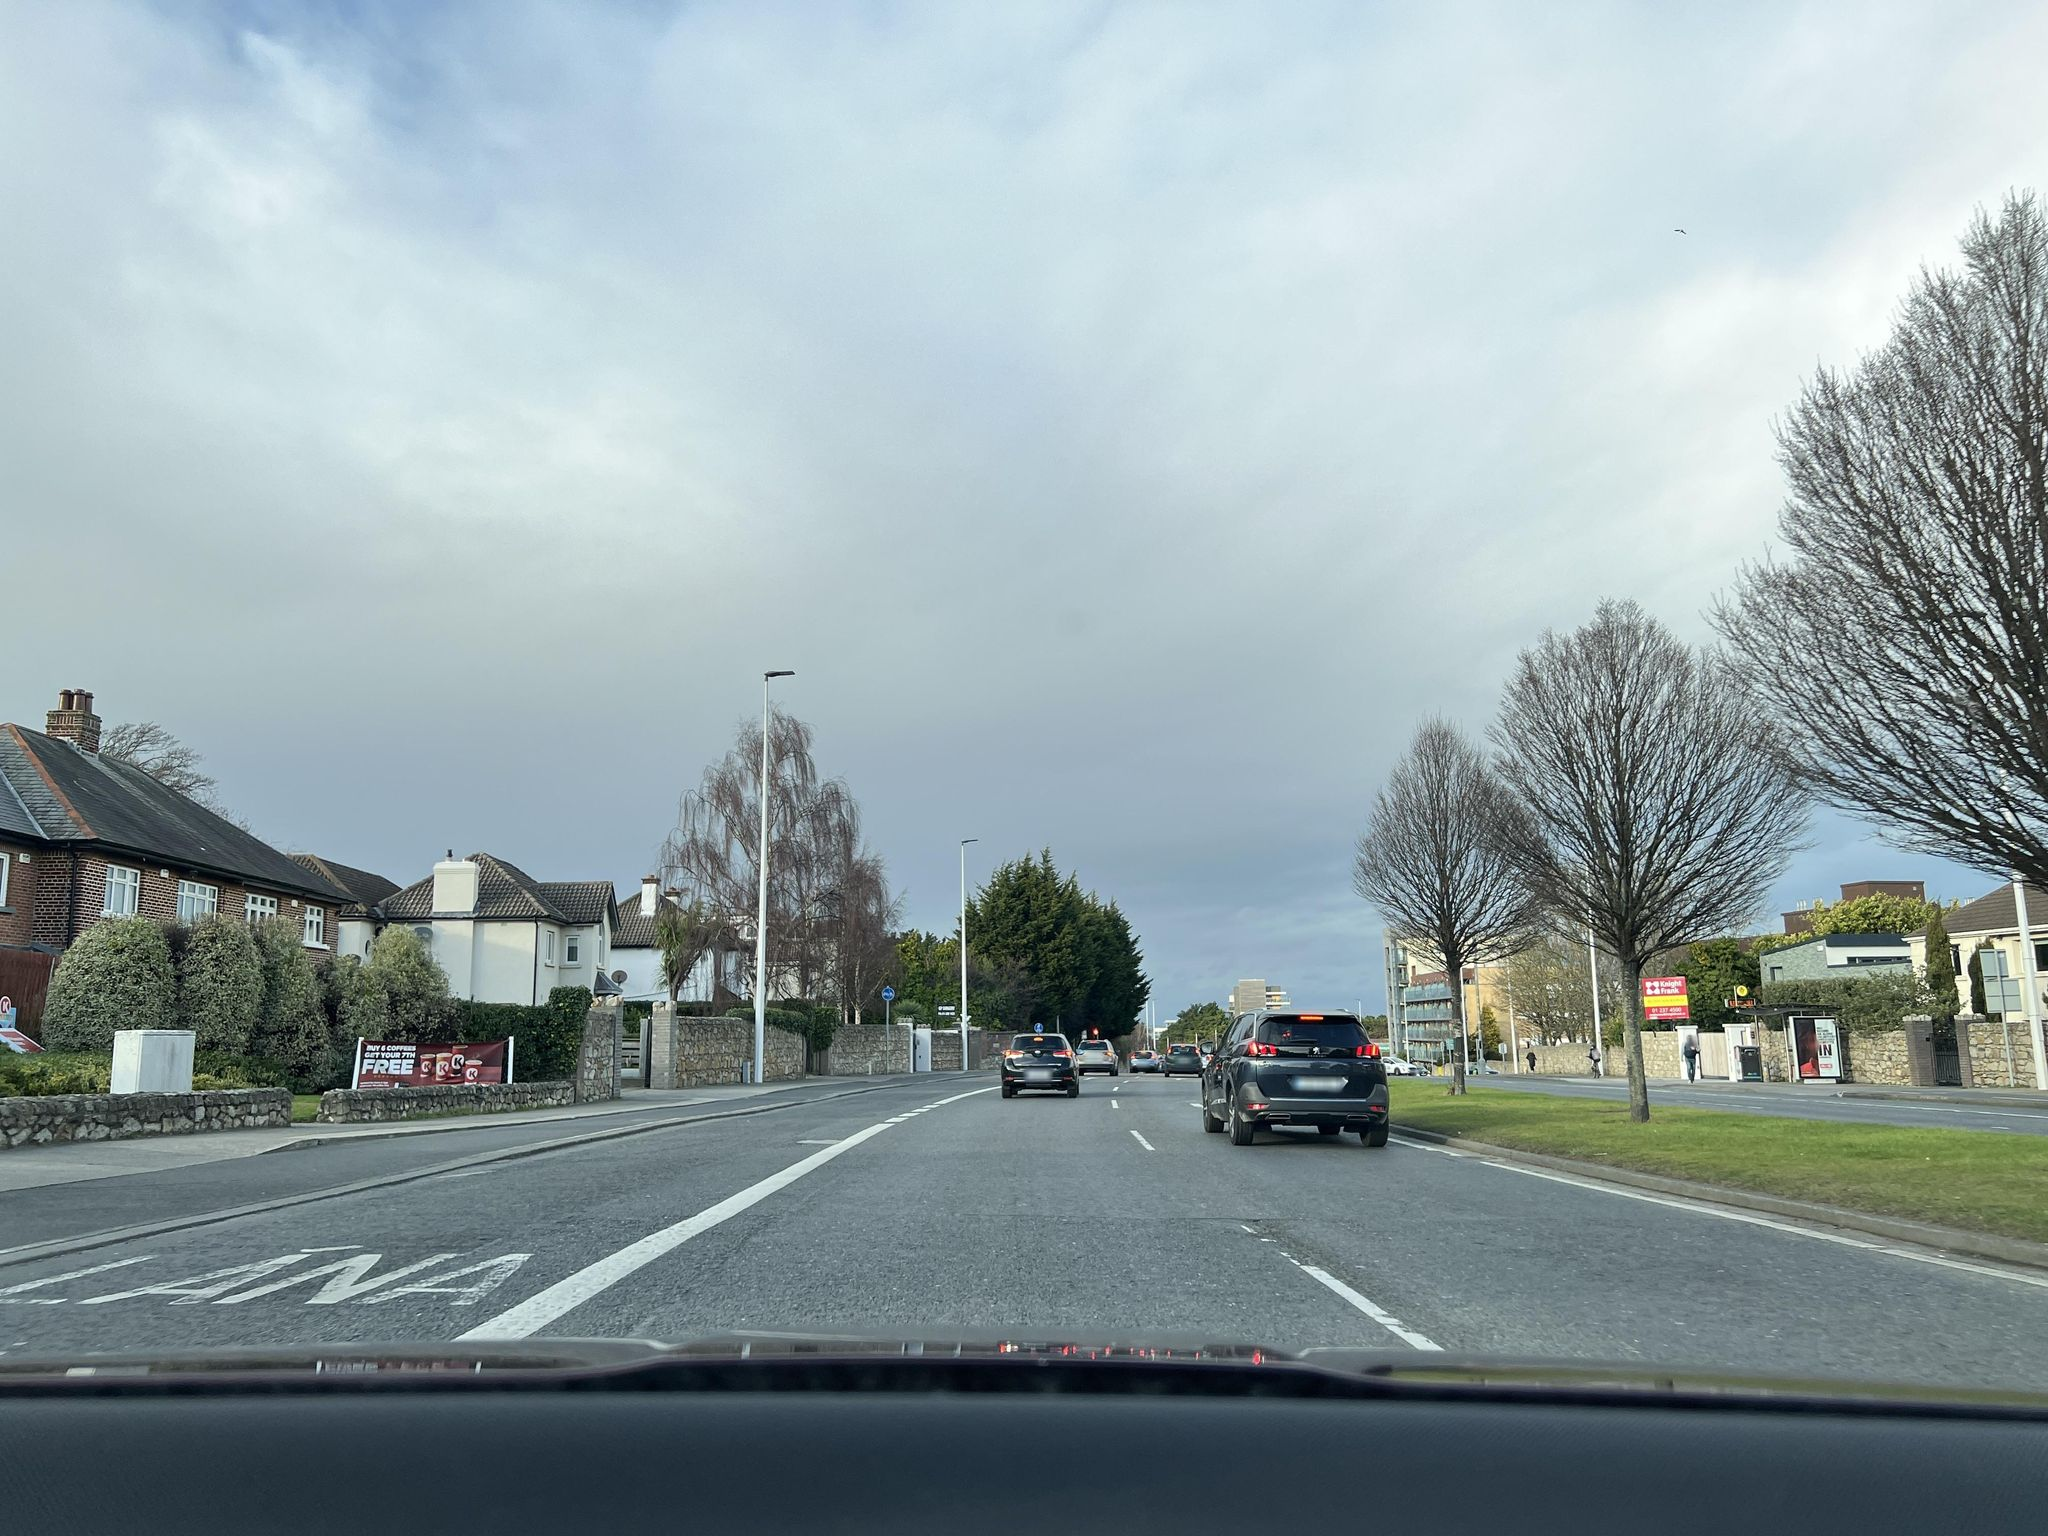property sign: (1635, 958, 1701, 1037)
vinyl banner: (339, 1010, 513, 1091)
